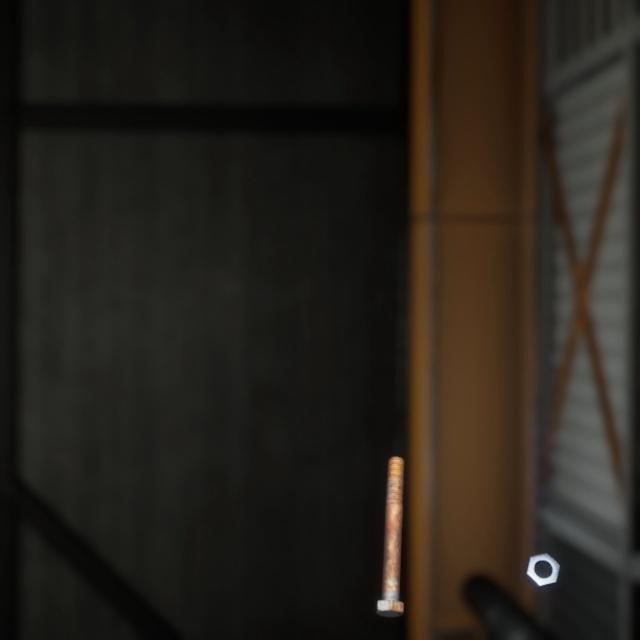bolt: (371, 431, 408, 599)
nut: (519, 525, 564, 571)
